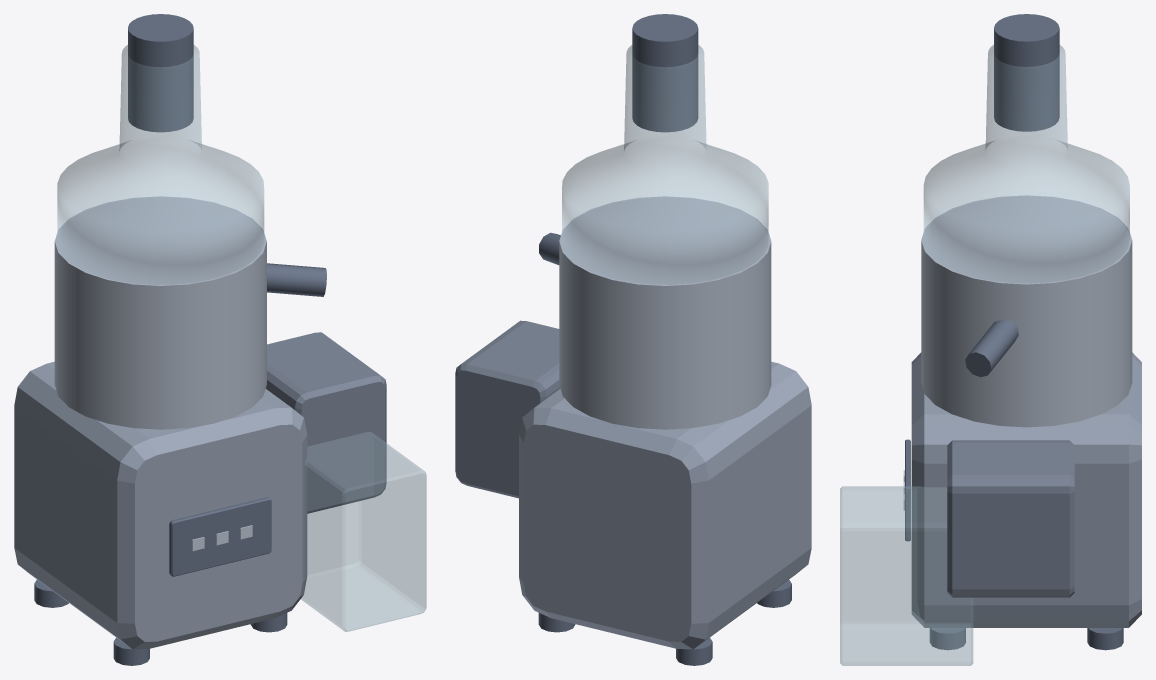
Rendered from juicer-lite.glb.
3 views of the same model, side by side, from view 1: azimuth 30°, elevation 25°; view 2: azimuth 150°, elevation 25°; view 3: azimuth 270°, elevation 25° (orthographic).
Visible parts, largest first — view 1: body, glass, soft, dark, accent; view 2: body, soft, glass, accent, dark; view 3: glass, soft, body, accent, dark.
Boxes of the visible parts, x1=… form: body: x1=14, y1=361, x2=307, y2=649; glass: x1=57, y1=45, x2=426, y2=631; soft: x1=54, y1=196, x2=266, y2=429; dark: x1=34, y1=14, x2=326, y2=665; accent: x1=266, y1=332, x2=386, y2=513; body: x1=519, y1=361, x2=811, y2=649; soft: x1=559, y1=196, x2=771, y2=429; glass: x1=562, y1=45, x2=768, y2=284; accent: x1=455, y1=320, x2=560, y2=498; dark: x1=538, y1=14, x2=791, y2=665; glass: x1=840, y1=45, x2=1129, y2=665; soft: x1=921, y1=195, x2=1132, y2=427; body: x1=911, y1=352, x2=1141, y2=627; accent: x1=947, y1=440, x2=1074, y2=597; dark: x1=905, y1=14, x2=1123, y2=650.
Size of the model in its own units: 0.2685 by 0.529 by 0.249.
